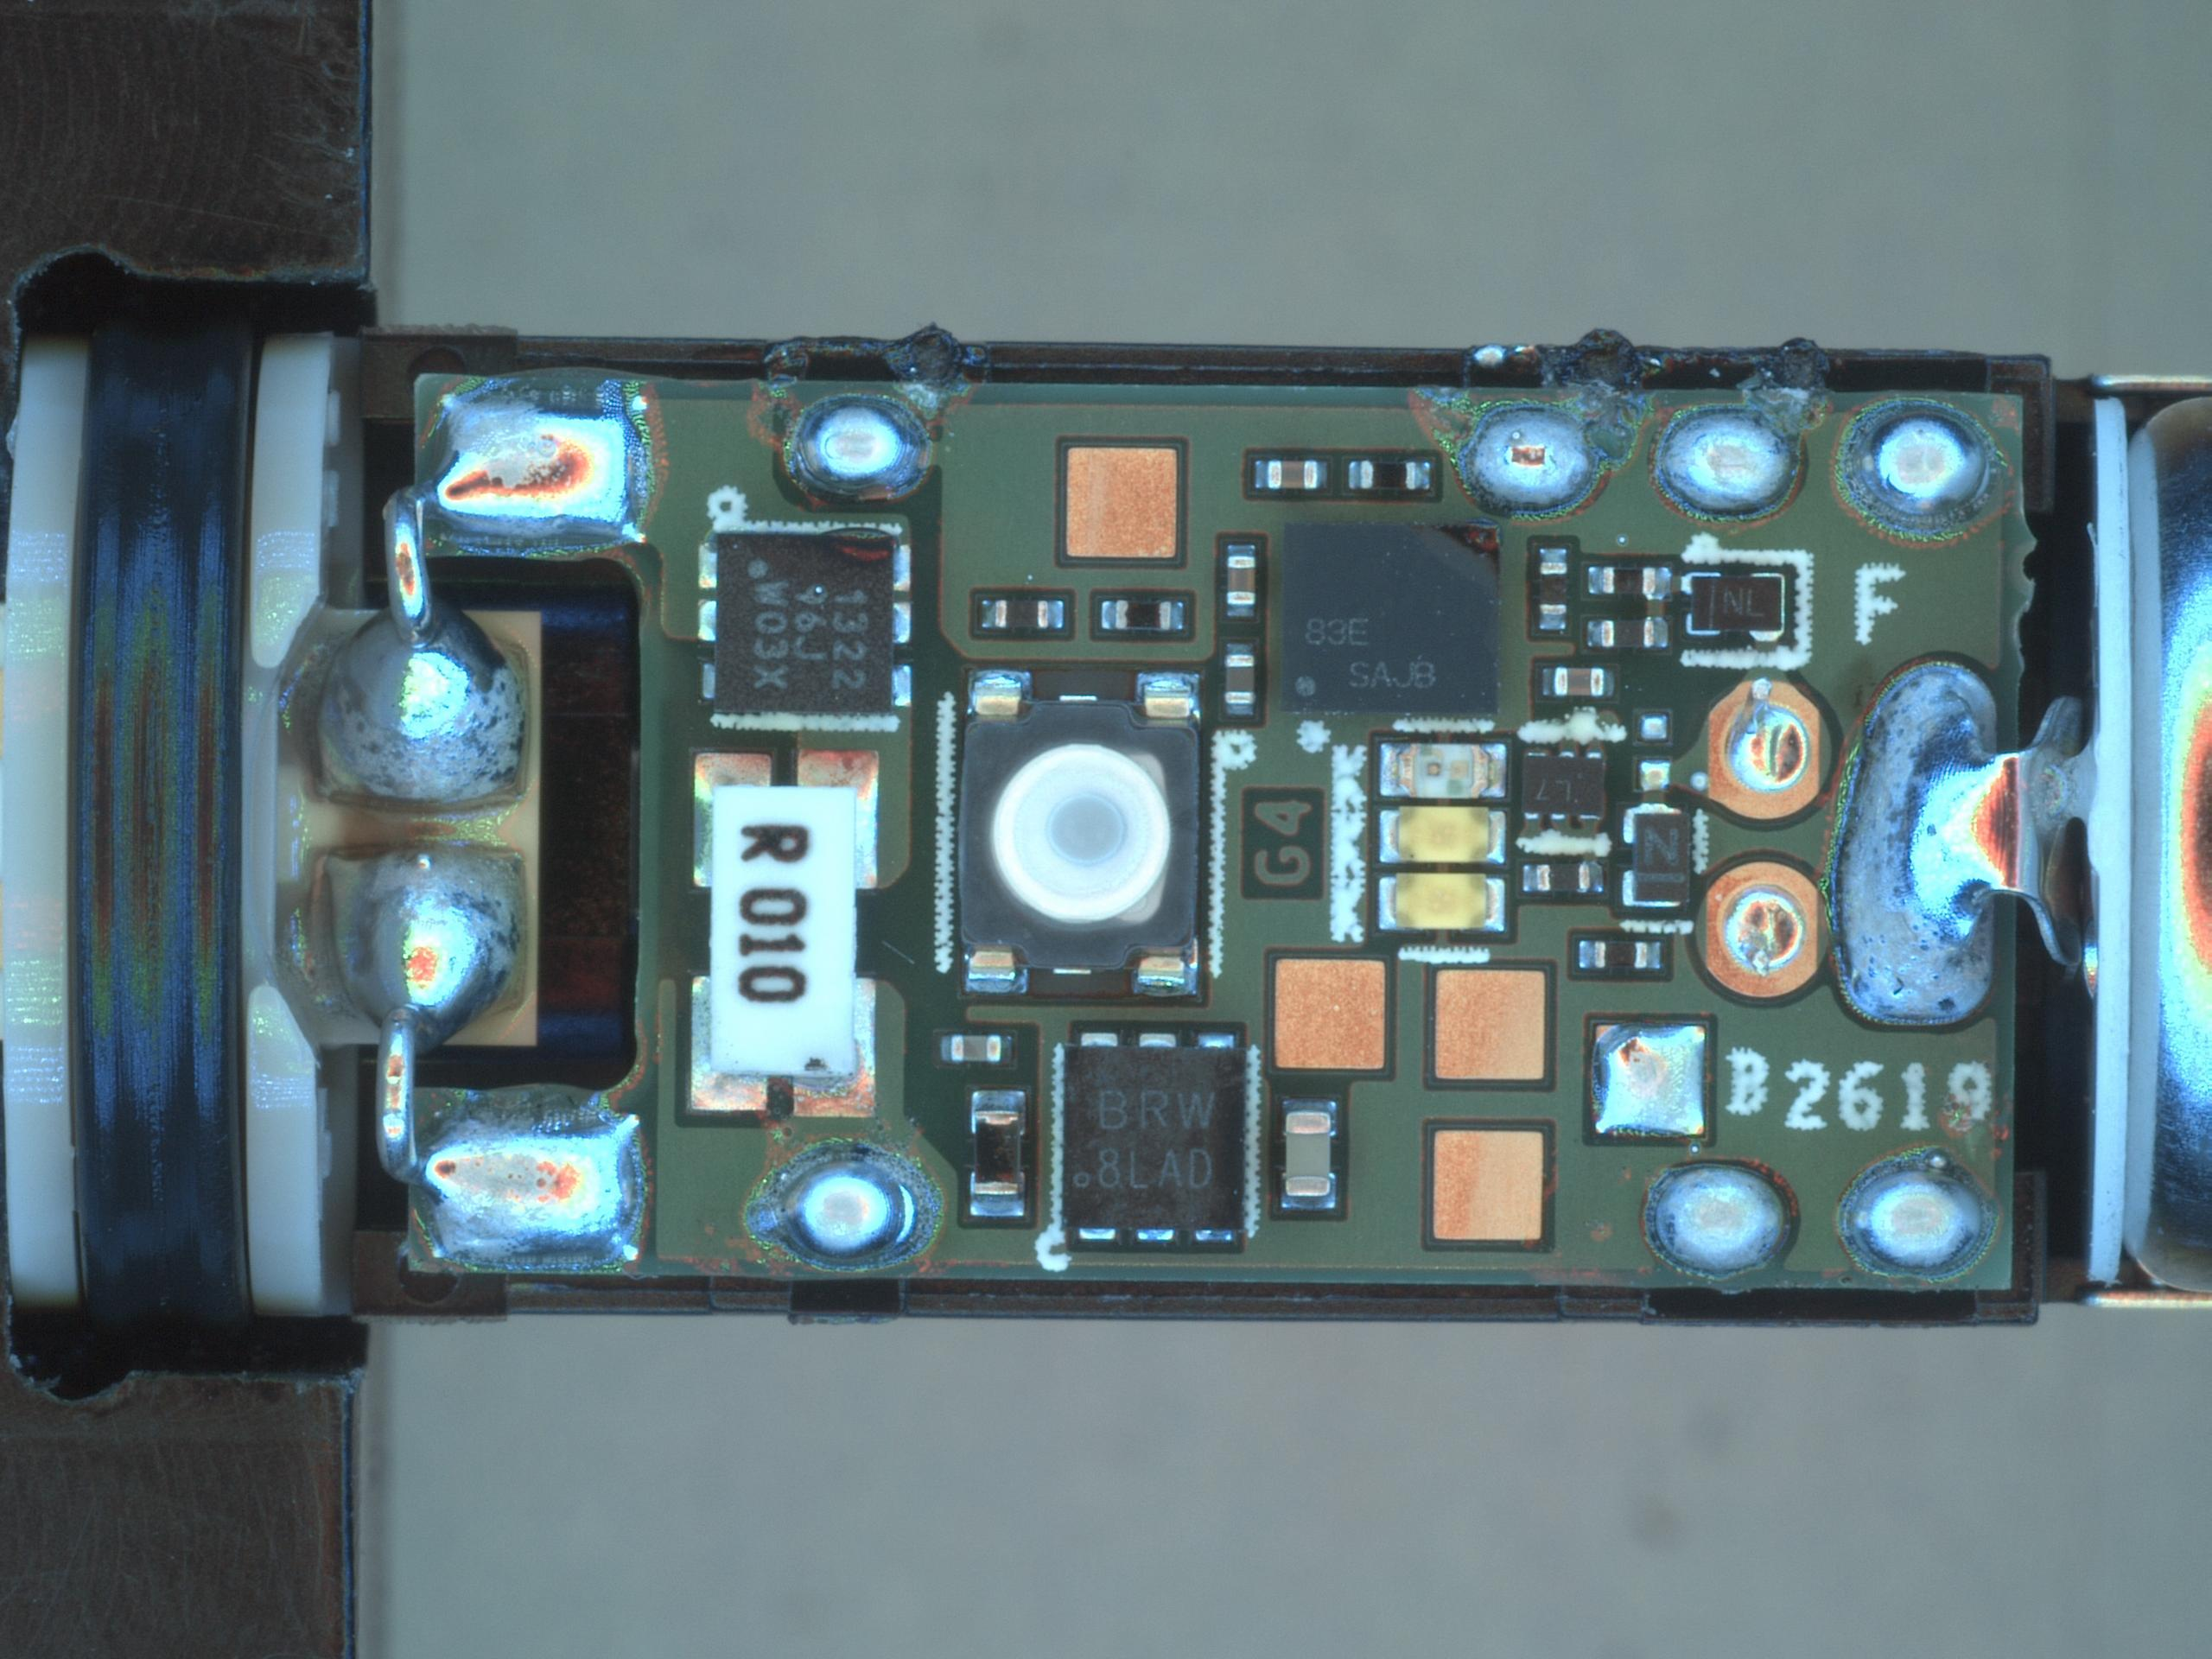solderball: (1474, 342, 1510, 373), (1689, 770, 1709, 791)
